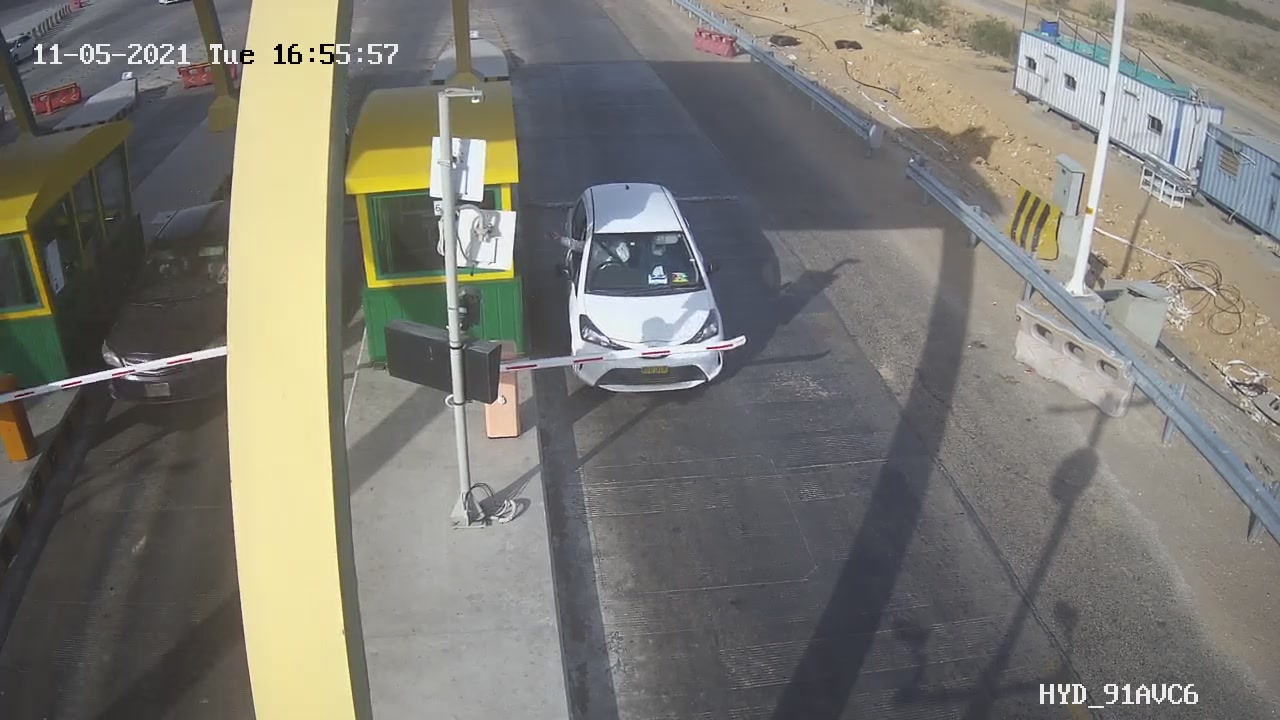F1: (537, 166, 751, 417)
